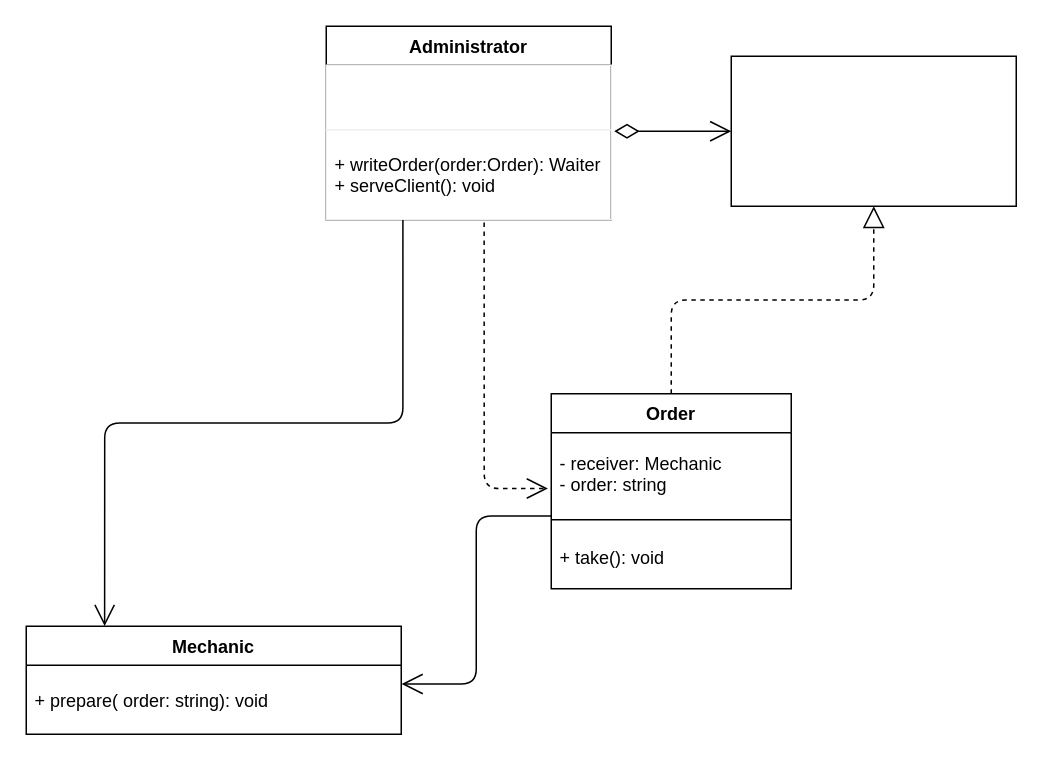
This 1043x761 diagram has some shape labels left out. Here are the shapes that lost their labels. From the top down, the centre of each, then its label:
At pixel 468 97: "- order: Order".
At pixel 873 130: "Service + take(): void".
